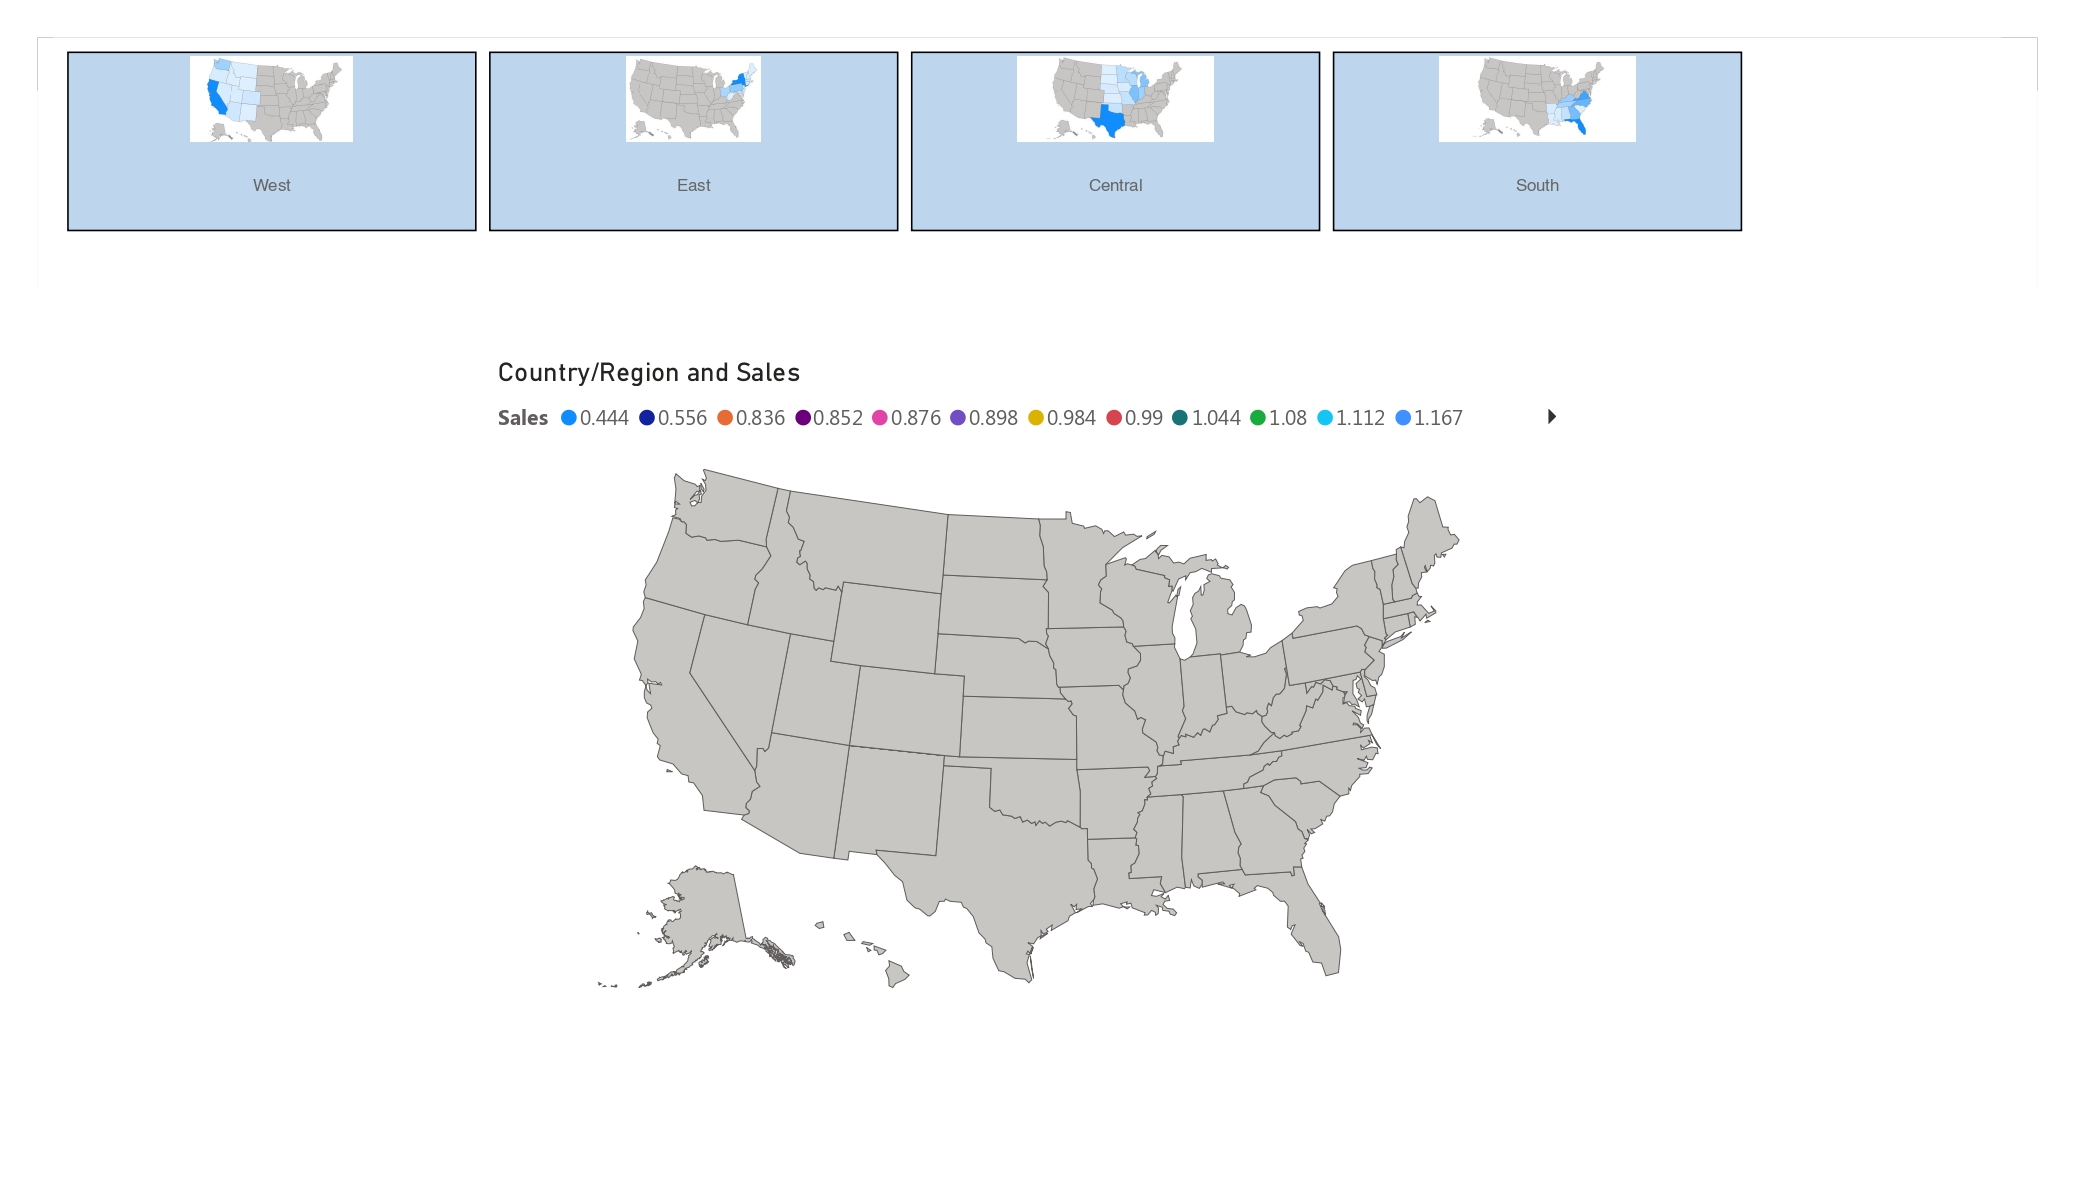

This screenshot's page, from the dashboard's own definition file:
{"tool":"powerbi","page":{"name":"Page5","canvas":[1280,720],"ordinal":4},"visuals":[{"type":"ChicletSlicer1448559807354","fields":{"Image":["Table.Image"],"Category":["Table.Region"],"Values":["Sum(Orders.Sales)"]},"box":[10.4,0,1246.4,157.8],"z":0},{"type":"shapeMap","fields":{"Category":["Orders.Country/Region"],"Series":["Orders.Sales"]},"box":[289.6,203.9,689.3,427.1],"z":1000}]}

Visuals, with their boxes on the page's 1280x720 design canvas (x1, y1, x2, y2). These are canvas units, not pixel positions in the 2075x1200 screenshot, which may show the page scaled, cropped or inside an application window:
ChicletSlicer1448559807354 - Table.Image x Table.Region: select_region(10, 0, 1257, 158)
shapeMap - Orders.Country/Region x Orders.Sales: select_region(290, 204, 979, 631)
